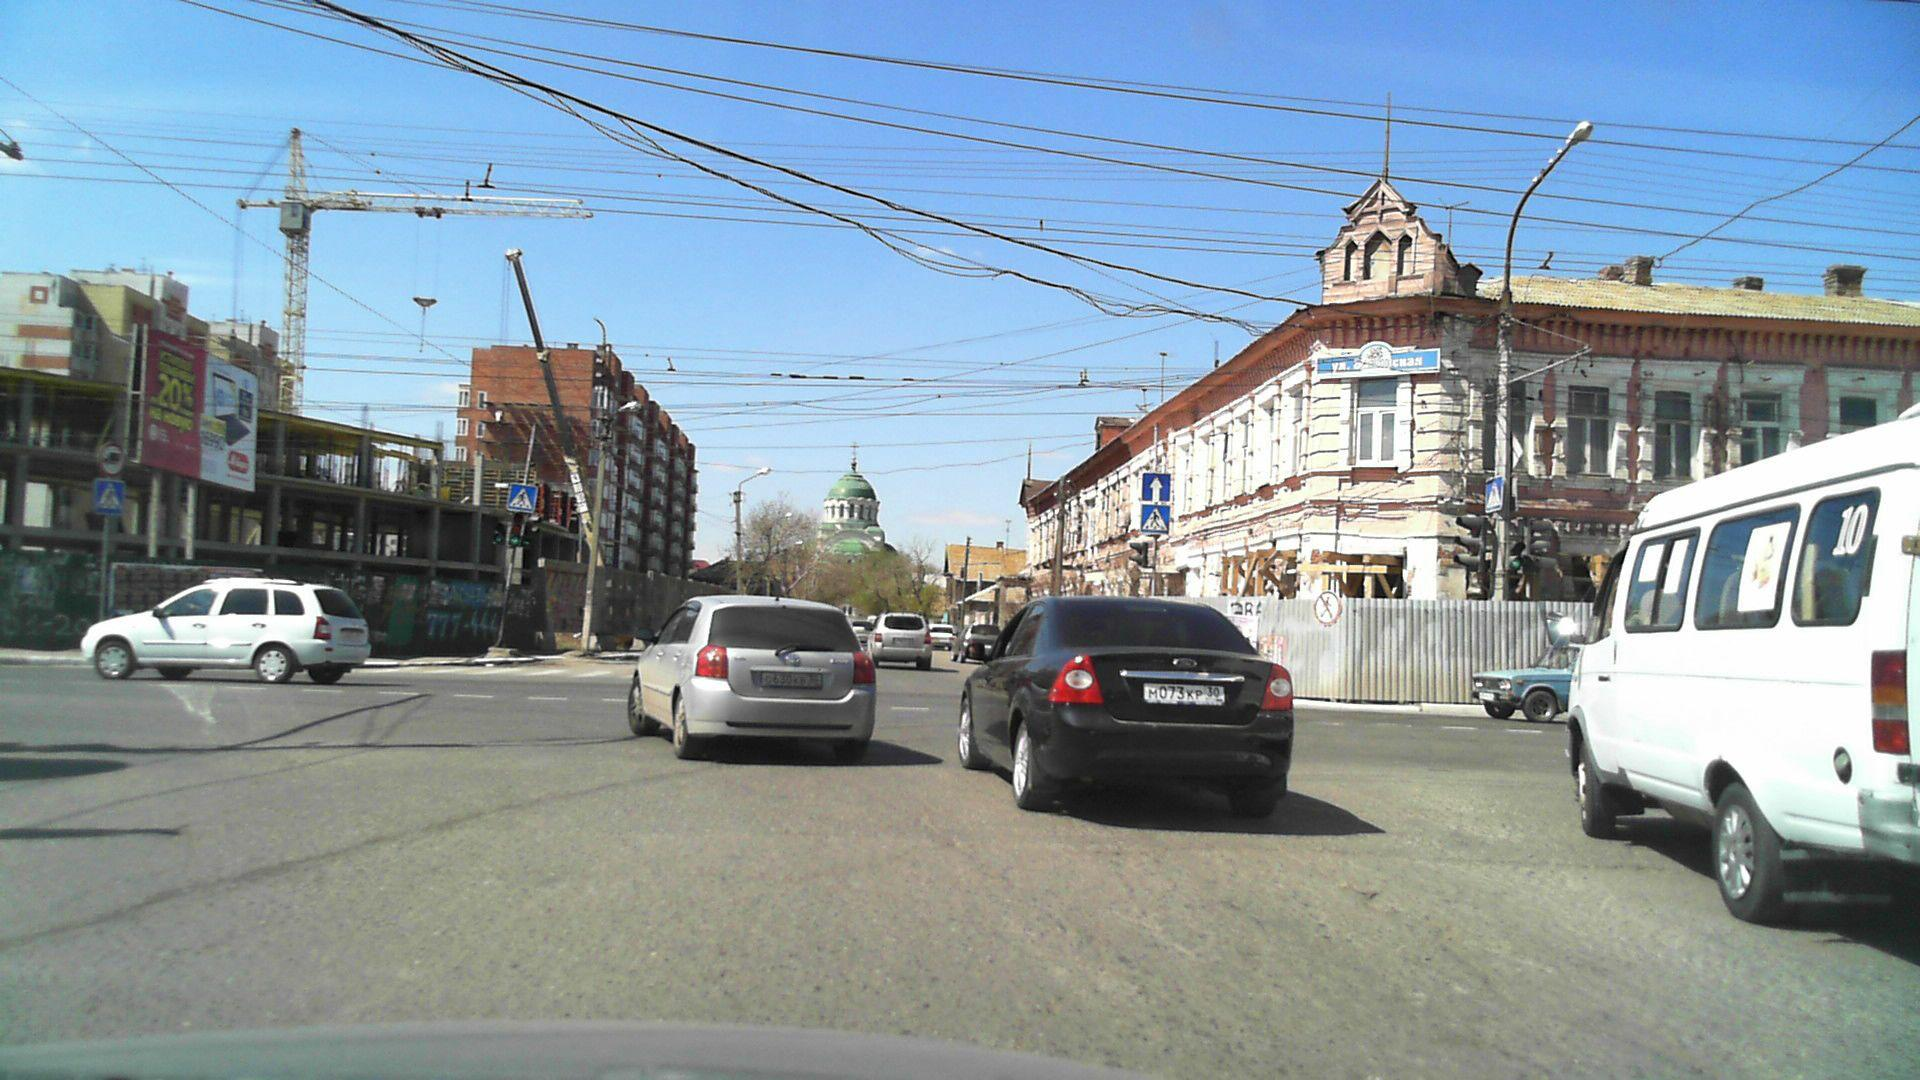3_4: (96, 440, 127, 473)
5_19_1: (1139, 502, 1171, 538)
5_19_2: (1480, 475, 1506, 516), (95, 479, 124, 514), (506, 480, 535, 516)
5_5: (1138, 472, 1174, 504)
